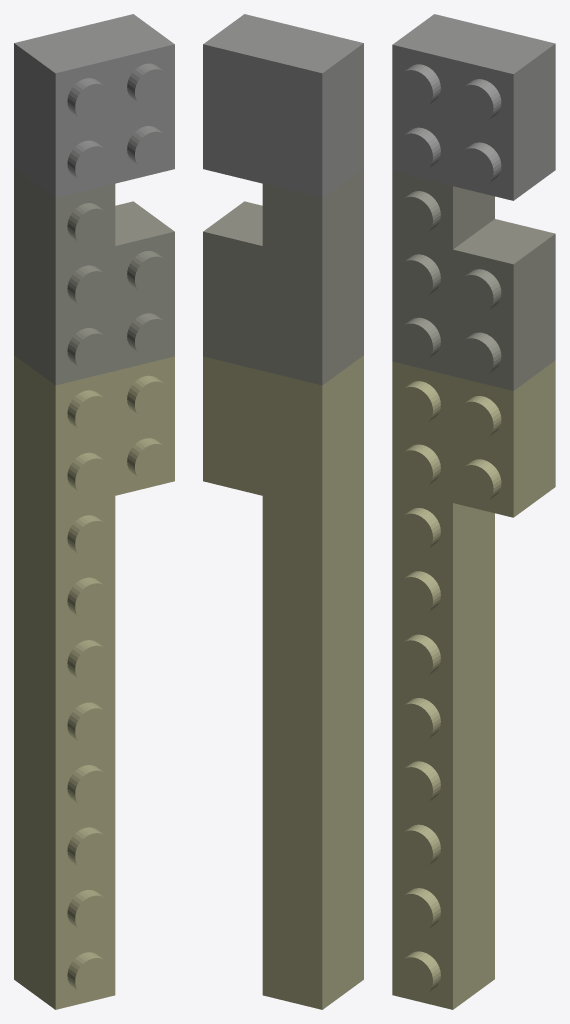
File: current.glb
3 views of the same model, side by side, from view 1: azimuth 30°, elevation 25°; view 2: azimuth 150°, elevation 25°; view 3: azimuth 330°, elevation 25° (orthographic).
Parts seen in each view (by area): view 1: world; view 2: world; view 3: world.
Boxes of the visible parts, <box> form: world: <box>14,14,174,1009</box>; world: <box>203,14,363,1009</box>; world: <box>392,14,555,1009</box>.
Bounding box in the file's own units: 16 × 120 × 11.4.
